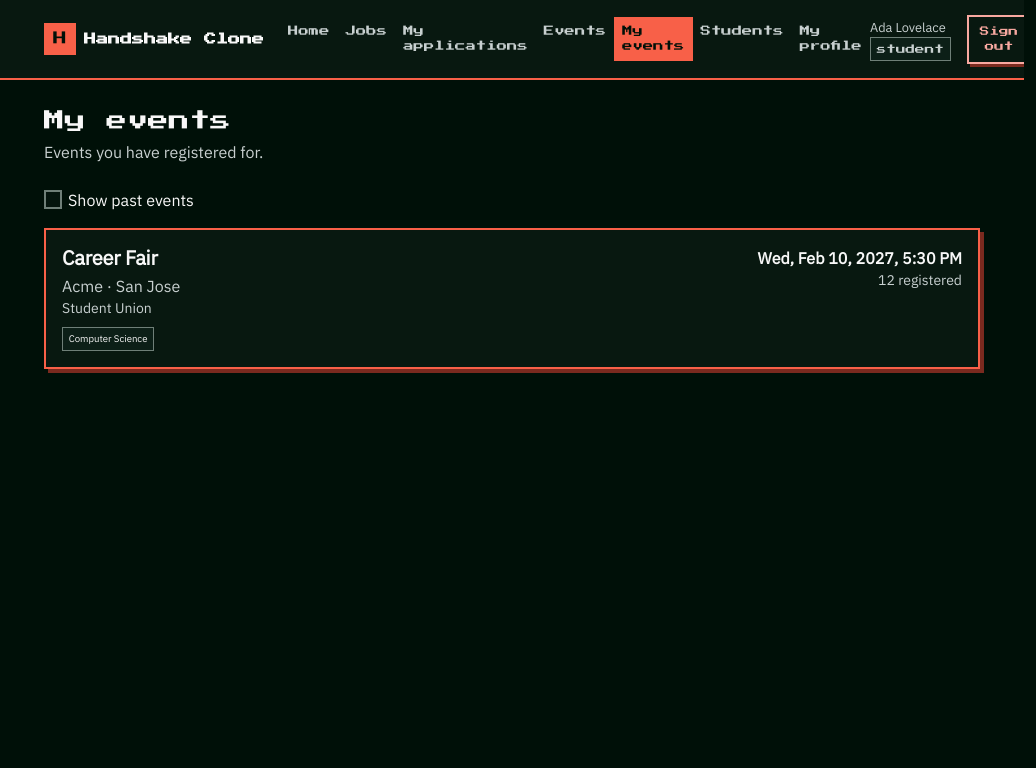
Scenario: My events › lists registered events and can include past ones
This screenshot has width=1036, height=768.
expect the number of elements with test id "event-card" is 1: met, box [44,228,980,369]
Click the checkbox labelled "Show past events" at (53, 200), box [44,190,62,209]
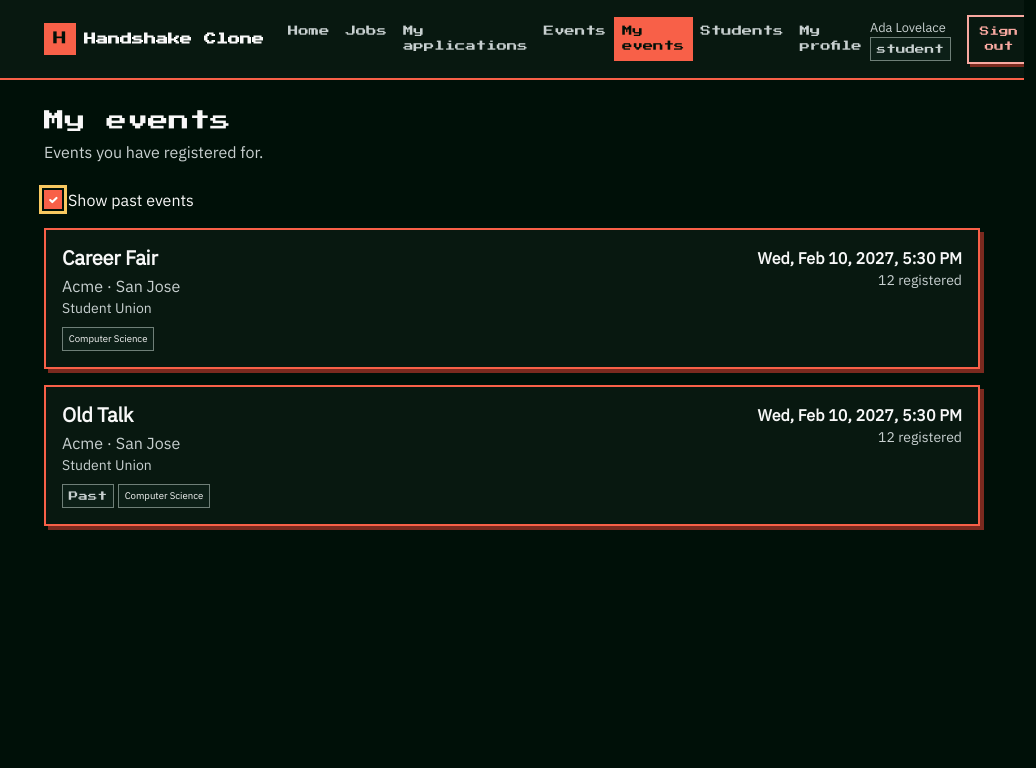
expect the link "Old Talk" is shown: met, box [62,401,133,428]
